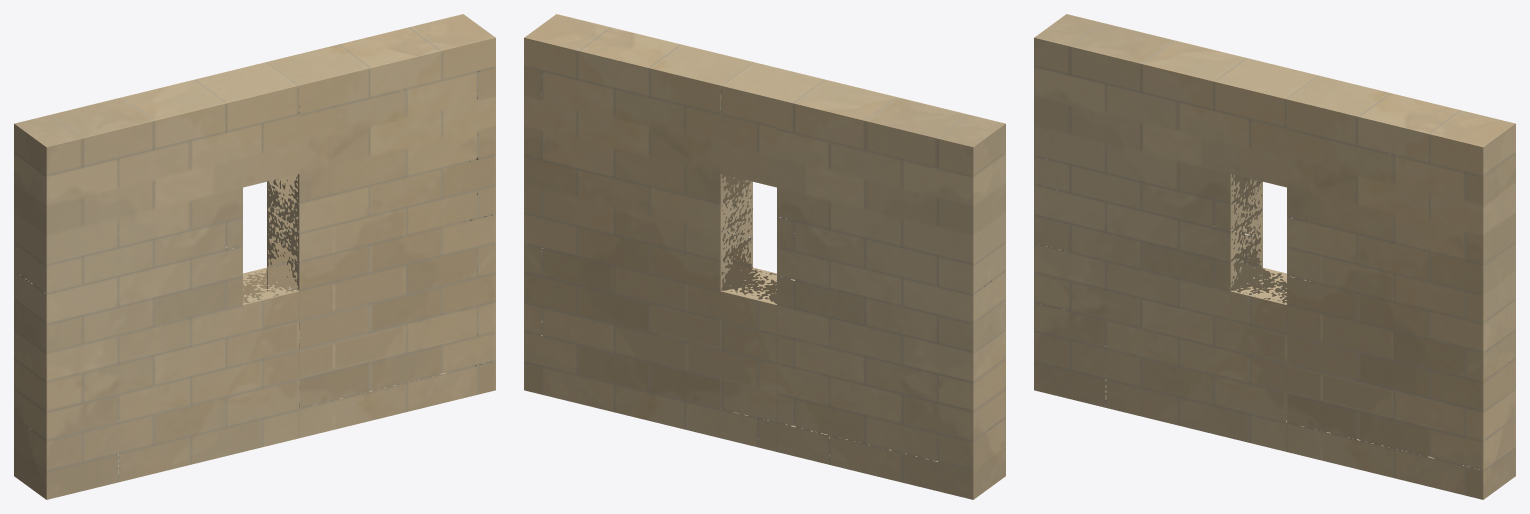
3 views of the same model, side by side, from view 1: azimuth 30°, elevation 25°; view 2: azimuth 150°, elevation 25°; view 3: azimuth 330°, elevation 25° (orthographic).
Parts seen in each view (by area): view 1: L11_Baked; view 2: L11_Baked; view 3: L11_Baked.
Part boxes in pixels (bbox=[...]): L11_Baked: bbox=[14, 14, 495, 499]; L11_Baked: bbox=[524, 14, 1005, 499]; L11_Baked: bbox=[1034, 14, 1515, 499].
Size of the model in its own units: 400 by 300 by 50.
